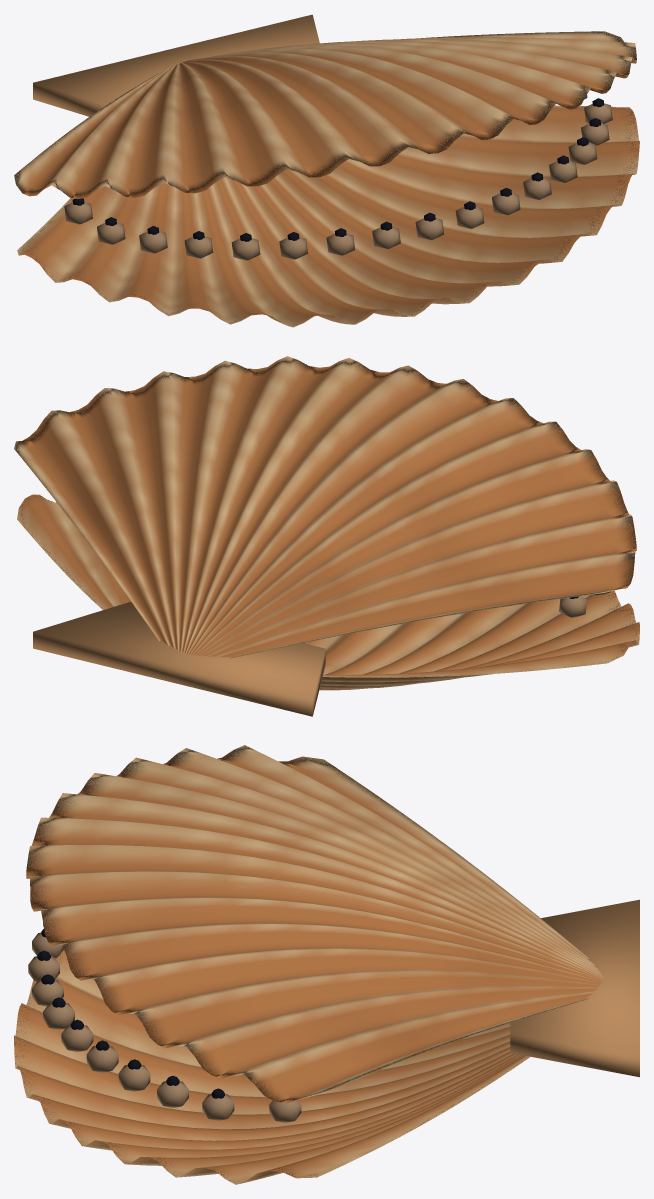
Rendered from ChesapectenJeffersonius.fbx.
3 renders of one model, top to bottom at view 1: azimuth 30°, elevation 25°; view 2: azimuth 150°, elevation 25°; view 3: azimuth 270°, elevation 25°, orthographic. The views are drawn at different scales.
Parts seen in each view (by area): view 1: ChesapectenJeffersonius; view 2: ChesapectenJeffersonius; view 3: ChesapectenJeffersonius.
Boxes of the visible parts, bbox=[...] form: ChesapectenJeffersonius: bbox=[14, 14, 639, 327]; ChesapectenJeffersonius: bbox=[14, 356, 639, 716]; ChesapectenJeffersonius: bbox=[14, 745, 639, 1184].
Size of the model in its own units: 1.13 by 0.3812 by 0.87.
